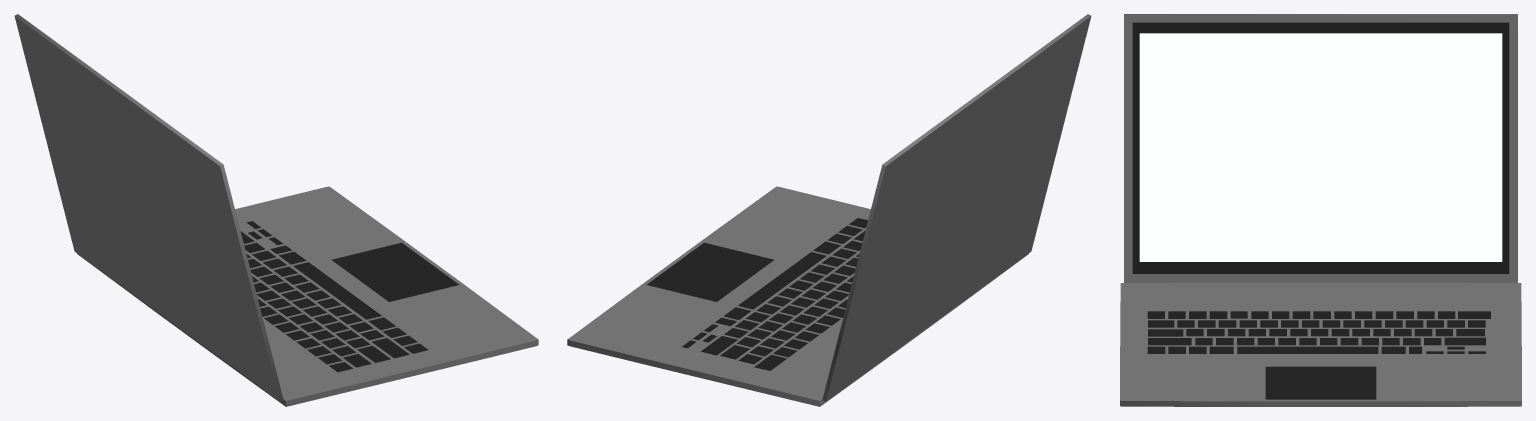
File: S_Laptop.fbx
3 views of the same model, side by side, from view 1: azimuth 30°, elevation 25°; view 2: azimuth 150°, elevation 25°; view 3: azimuth 270°, elevation 25° (orthographic). The views are drawn at different scales.
Parts seen in each view (by area): view 1: S_Laptop; view 2: S_Laptop; view 3: S_Laptop.
Boxes of the visible parts, x1,y1,x2,y2 form: S_Laptop: [14, 14, 538, 406]; S_Laptop: [567, 14, 1091, 406]; S_Laptop: [1120, 14, 1521, 406].
Bounding box in the file's own units: 54.72 × 42.2 × 62.63.
